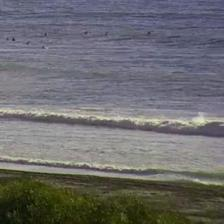surfer: (12, 36, 16, 41), (41, 46, 46, 50), (104, 32, 109, 36), (83, 32, 89, 35), (146, 31, 152, 34), (44, 32, 48, 36), (26, 41, 30, 45), (5, 37, 9, 41)
